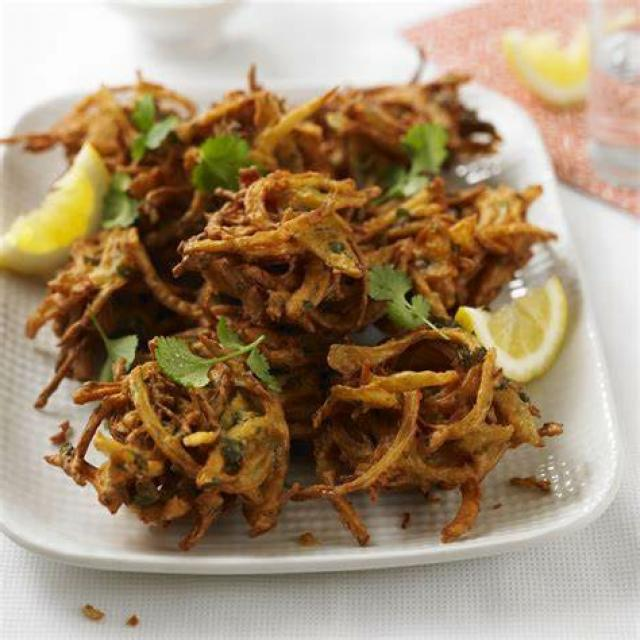Onion Pakora: (39, 50, 535, 572)
